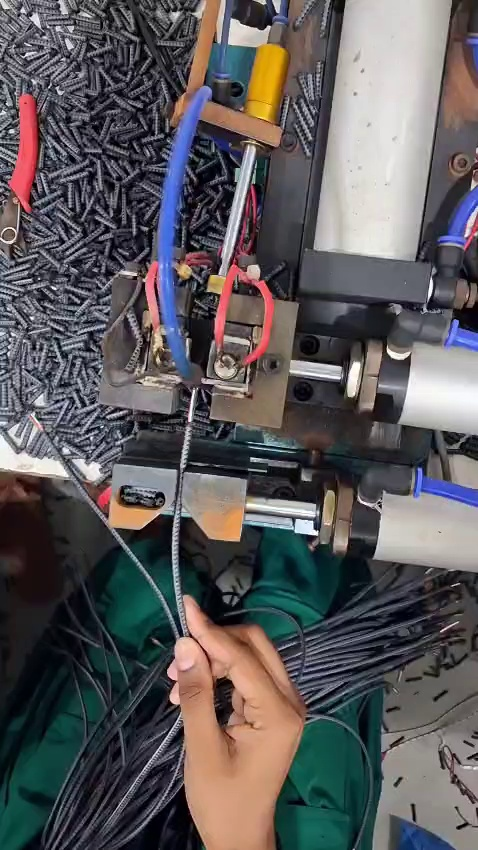machine: (99, 243, 309, 464)
peeled_wire: (172, 372, 213, 467), (13, 403, 71, 455)
